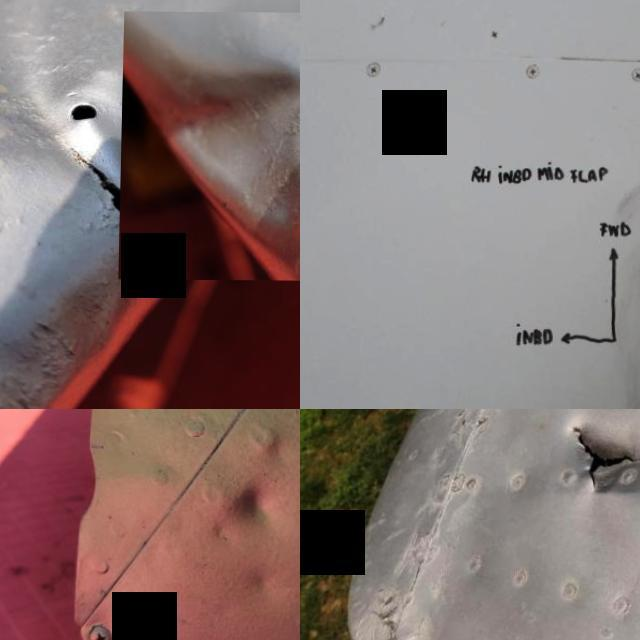Crack: (48, 134, 174, 270), (561, 415, 640, 502)
Dent: (120, 10, 300, 280), (201, 454, 300, 558)
